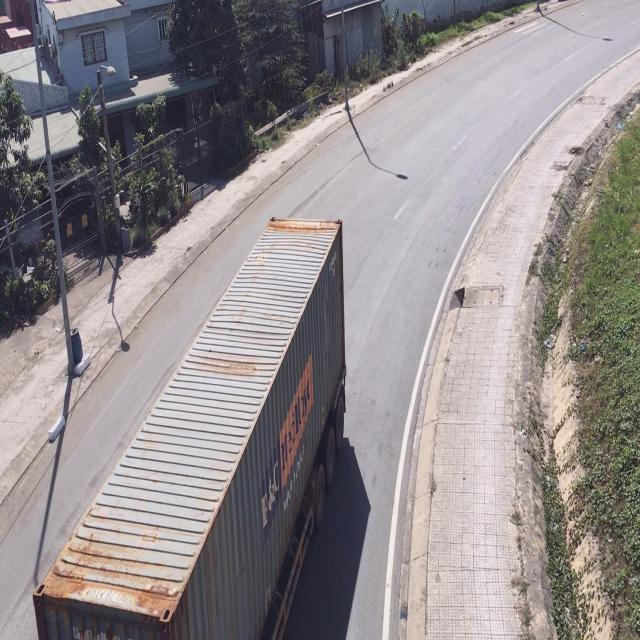truck: (32, 217, 344, 640)
